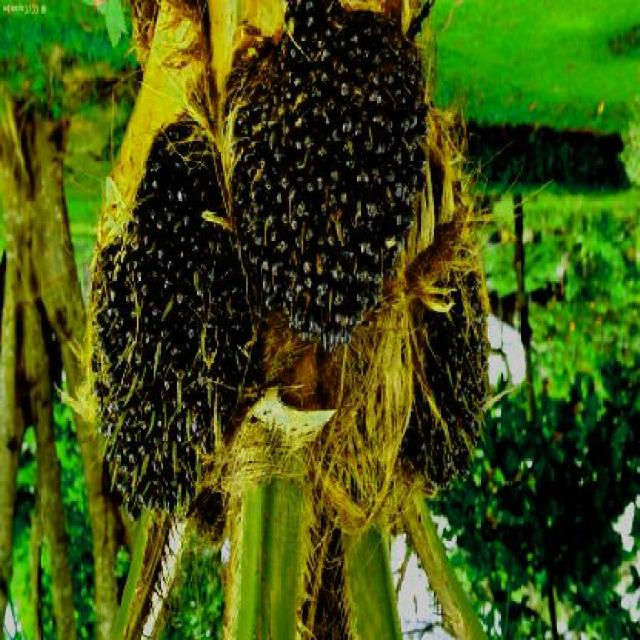palm-oil: (68, 136, 264, 507), (224, 0, 430, 338), (394, 206, 504, 491)
